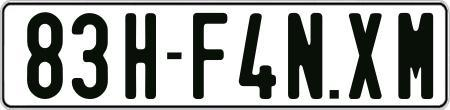3: (70, 13, 109, 104)
4: (237, 12, 278, 101)
8: (26, 12, 65, 102)
F: (190, 11, 224, 101)
H: (124, 10, 159, 96)
M: (397, 10, 433, 101)
N: (286, 10, 323, 96)
X: (348, 13, 387, 101)
